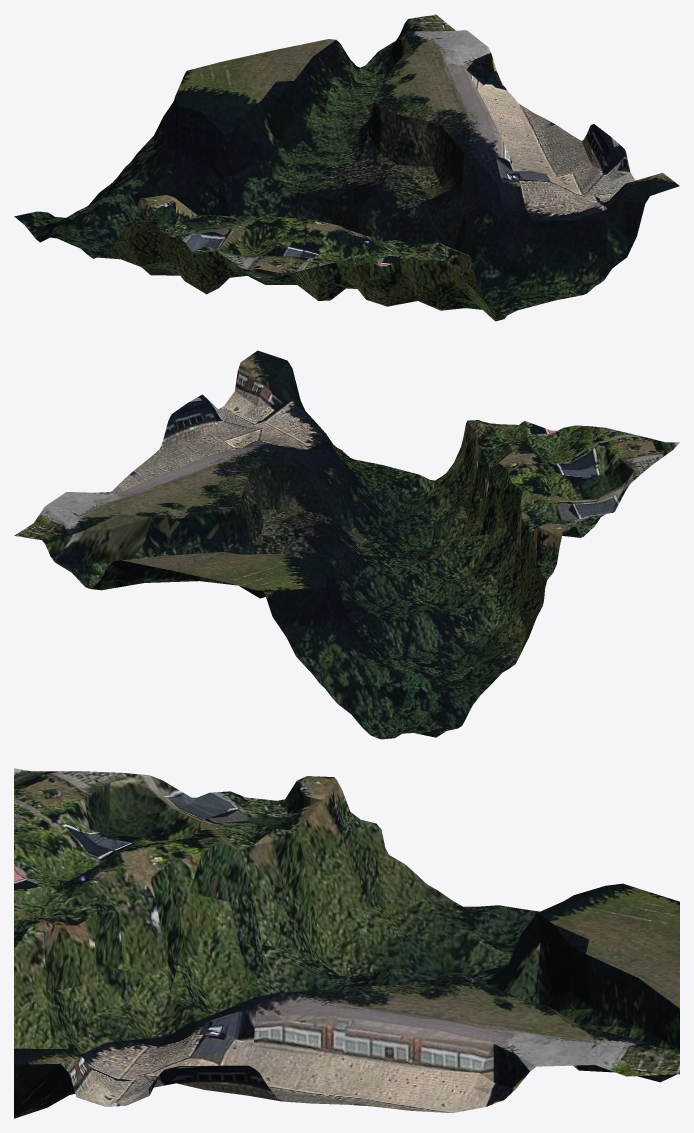
File: map_15_8187_13786.dae
3 renders of one model, top to bottom at view 1: azimuth 30°, elevation 25°; view 2: azimuth 150°, elevation 25°; view 3: azimuth 270°, elevation 25°, orthographic. The views are drawn at different scales.
Parts seen in each view (by area): view 1: Ter0; view 2: Ter0; view 3: Ter0.
Part boxes in pixels (x1=…): Ter0: x1=14, y1=14, x2=679, y2=321; Ter0: x1=14, y1=350, x2=679, y2=739; Ter0: x1=14, y1=768, x2=679, y2=1118.
Bounding box in the file's own units: 63.87 × 63.88 × 19.1.
3 materials, 3 textured.
